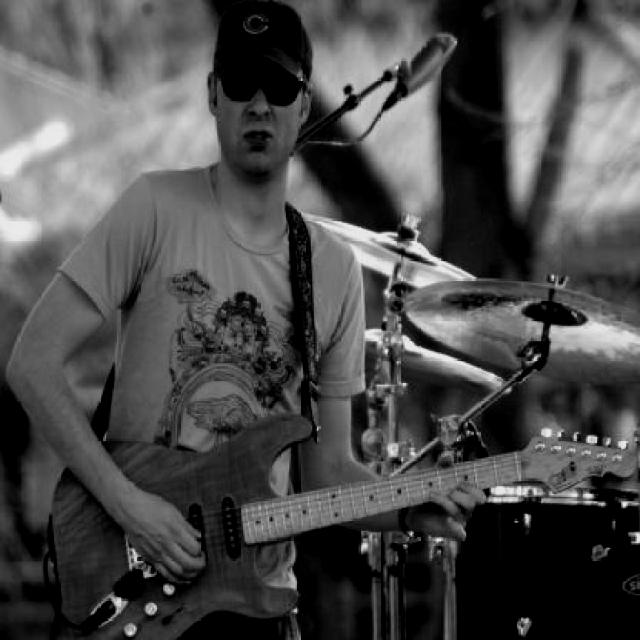face_nomask: (218, 64, 305, 159)
glasses: (215, 51, 312, 98)
hand_noglove: (112, 487, 215, 585), (416, 458, 493, 542)
person: (13, 1, 453, 636)
